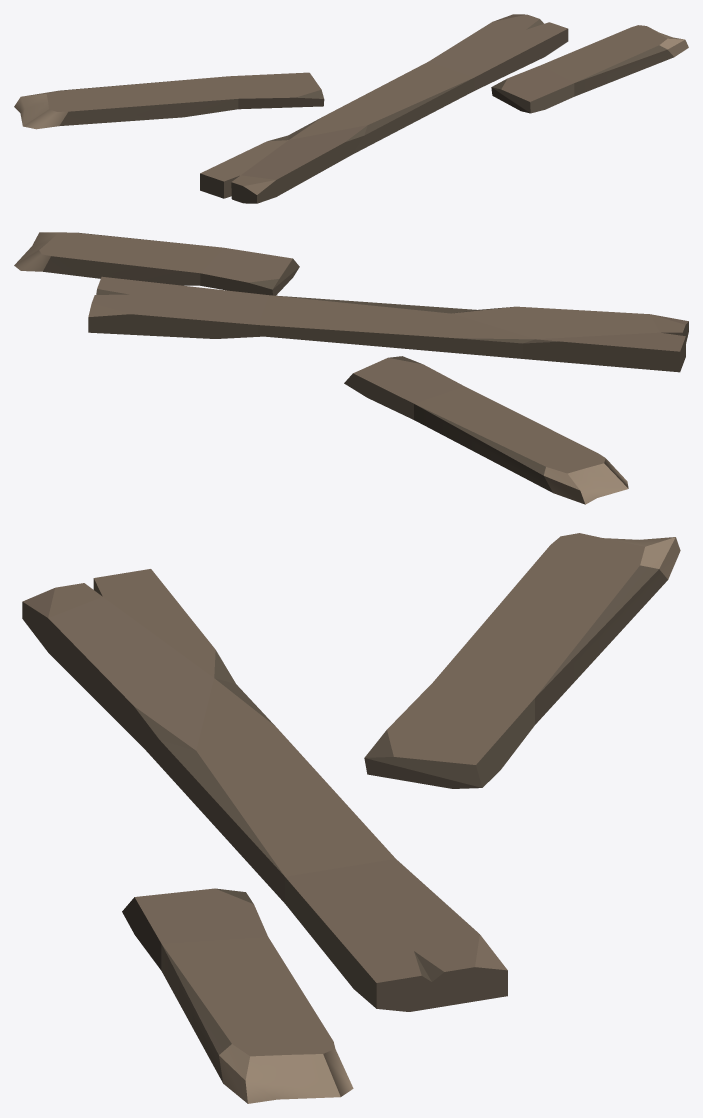
File: SM_Env_Rubble_Plank_01.fbx
3 renders of one model, top to bottom at view 1: azimuth 30°, elevation 25°; view 2: azimuth 150°, elevation 25°; view 3: azimuth 270°, elevation 25°, orthographic. The views are drawn at different scales.
Parts seen in each view (by area): view 1: SM_Env_Rubble_Plank_01; view 2: SM_Env_Rubble_Plank_01; view 3: SM_Env_Rubble_Plank_01.
Boxes of the visible parts, left/top/right/bottom form: SM_Env_Rubble_Plank_01: left=14, top=14, right=688, bottom=203; SM_Env_Rubble_Plank_01: left=14, top=232, right=688, bottom=504; SM_Env_Rubble_Plank_01: left=22, top=533, right=680, bottom=1103.
Size of the model in its own units: 3.26 by 0.0924 by 1.6.
